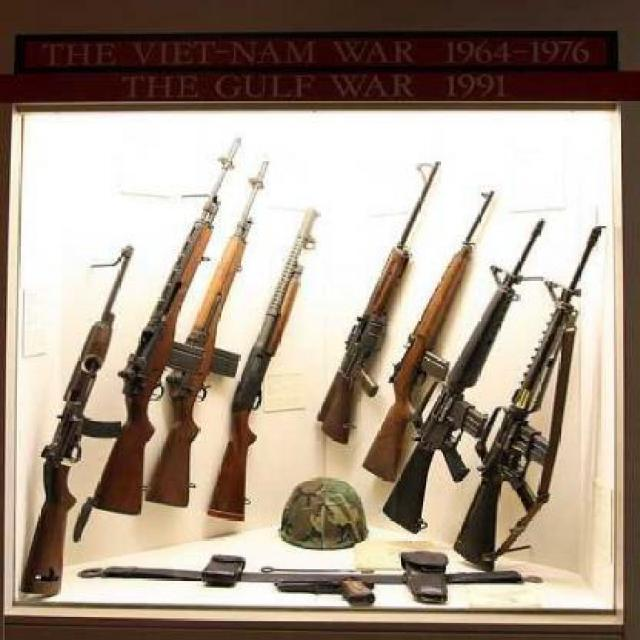weapon: (90, 140, 244, 520), (380, 220, 550, 538), (459, 226, 605, 548), (148, 164, 274, 508), (9, 250, 135, 590), (363, 192, 497, 480), (316, 158, 445, 436), (207, 205, 321, 512), (75, 558, 536, 604)
